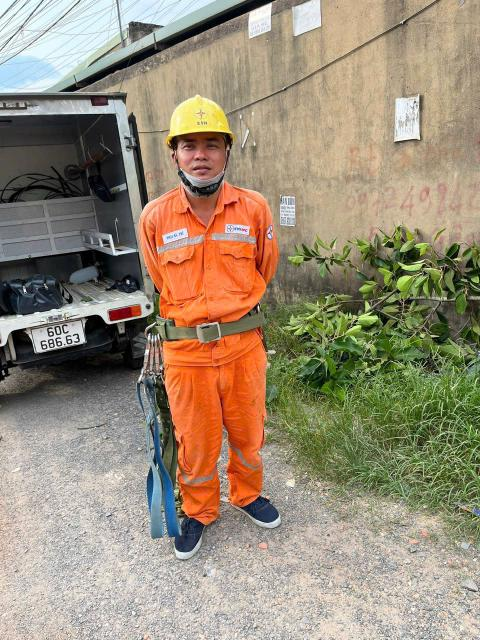harness: (148, 310, 294, 348)
helmet: (161, 87, 241, 151)
shoes: (169, 504, 211, 563), (226, 488, 286, 528)
